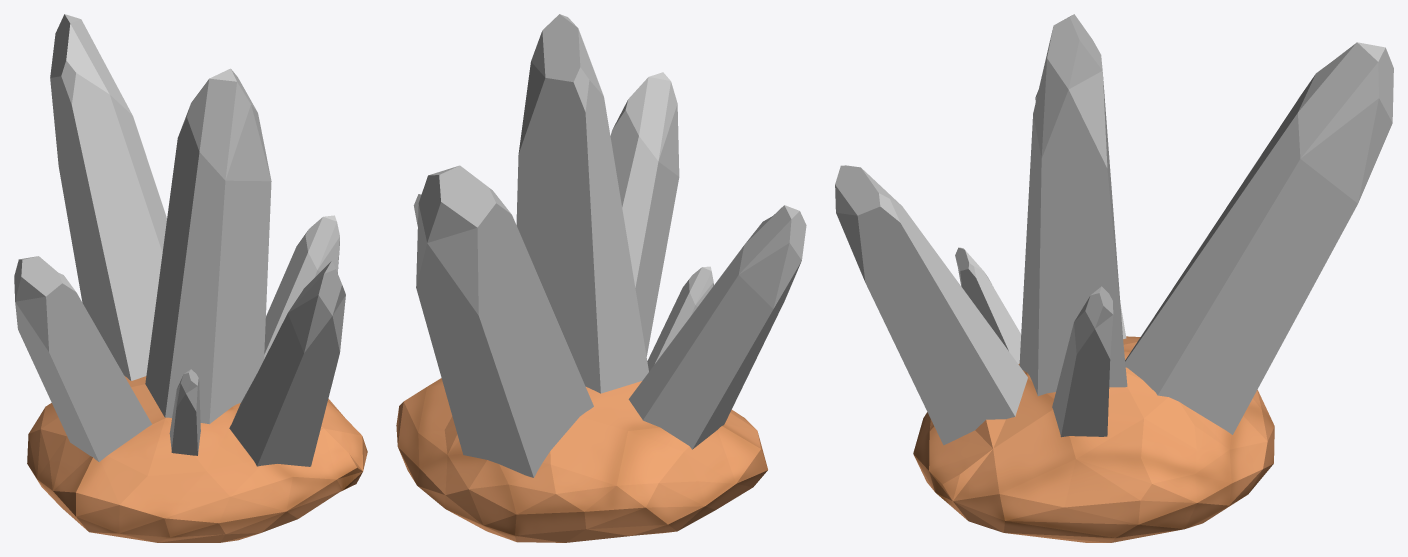
File: emas333.fbx
3 renders of one model, left to right at view 1: azimuth 30°, elevation 25°; view 2: azimuth 150°, elevation 25°; view 3: azimuth 270°, elevation 25°, orthographic. The views are drawn at different scales.
Visible parts, largest first — view 1: Cube.106; view 2: Cube.106; view 3: Cube.106.
Boxes of the visible parts, <box> form: Cube.106: <box>14,14,367,542</box>; Cube.106: <box>396,14,806,542</box>; Cube.106: <box>835,14,1393,542</box>.
Bounding box in the file's own units: 684 × 842 × 855.
